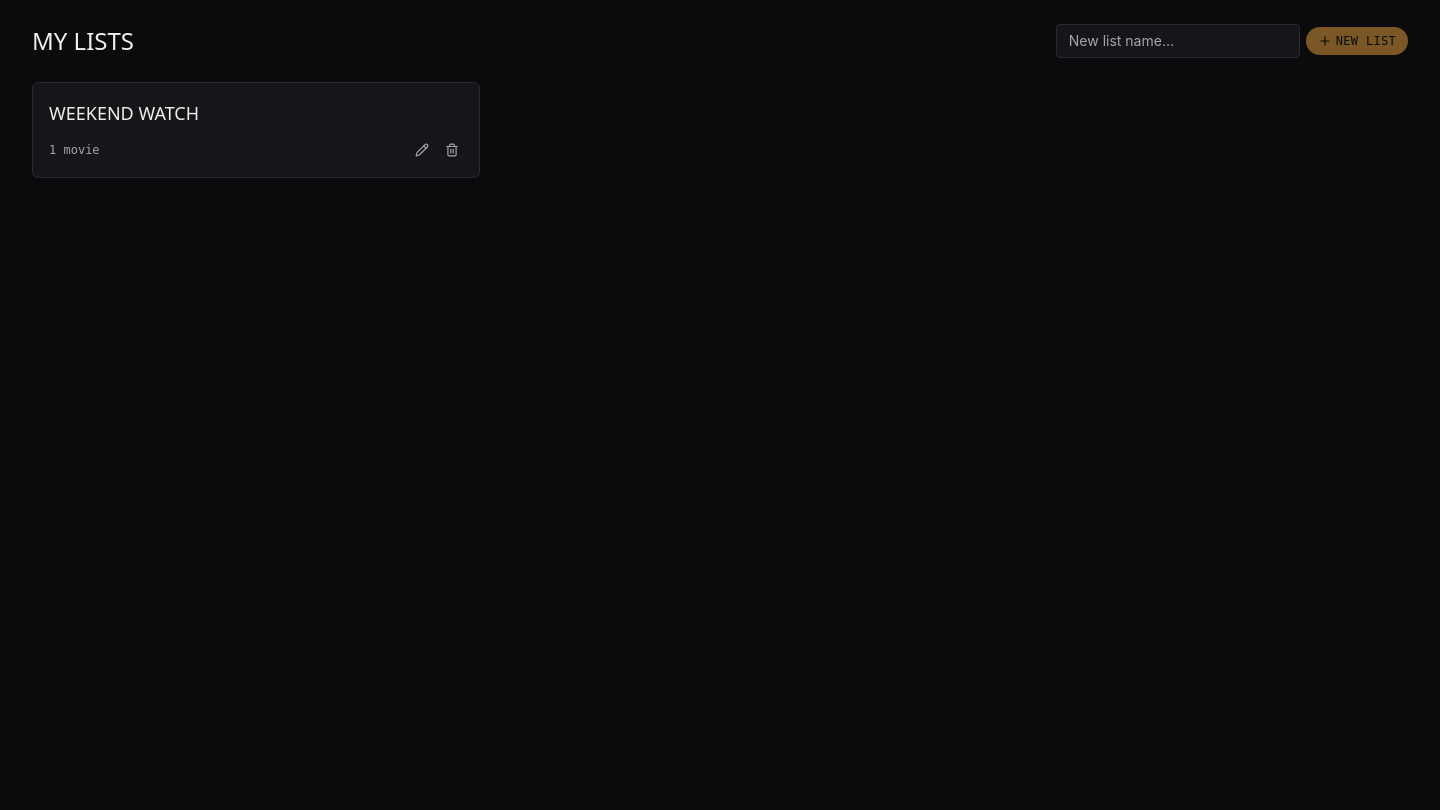
Test: ListsPage delete flow › cancelling the dialog does not delete the list
Click the button named "Delete Weekend Watch": (452, 150) [441, 139, 463, 161]
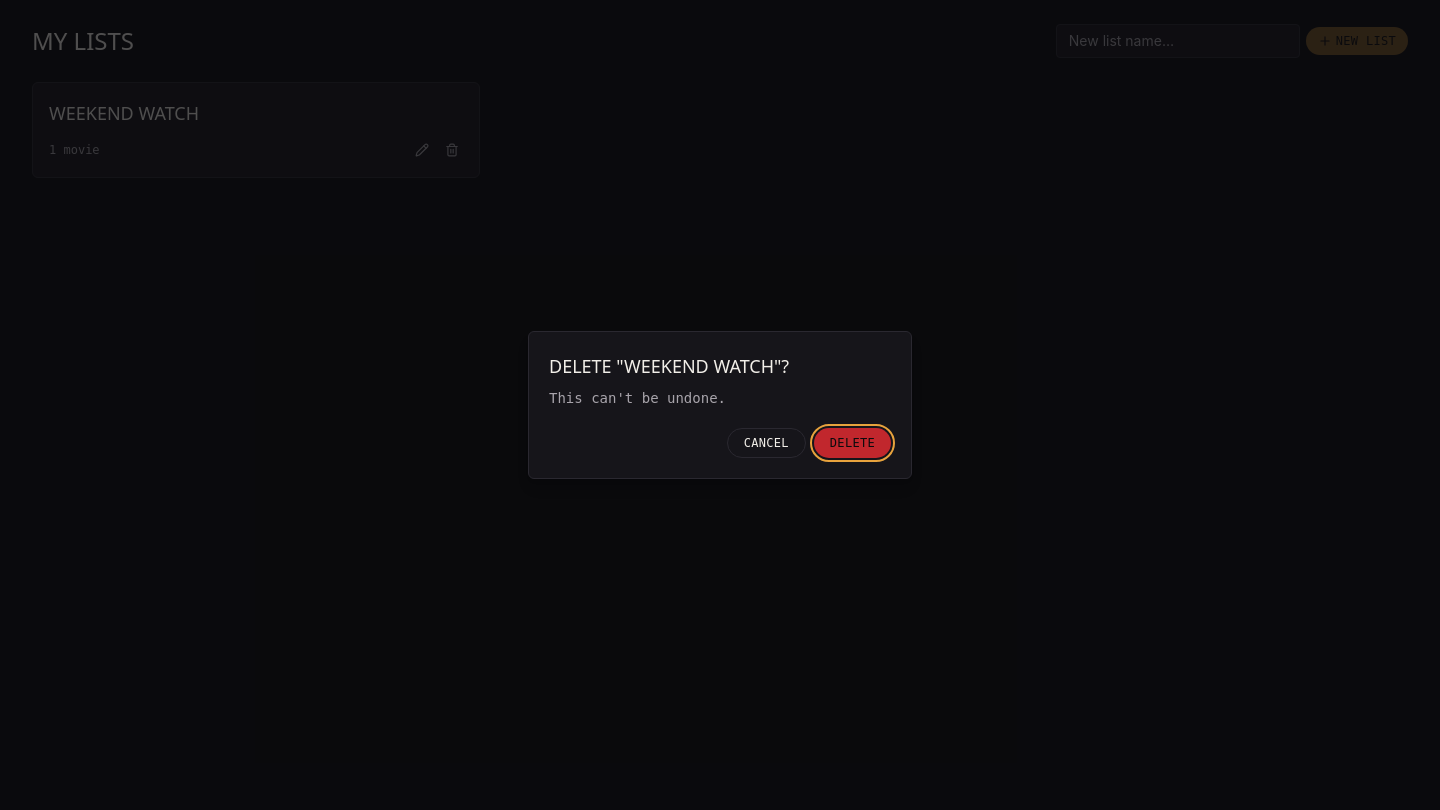
Click the button "Cancel": (766, 443) [727, 428, 806, 458]
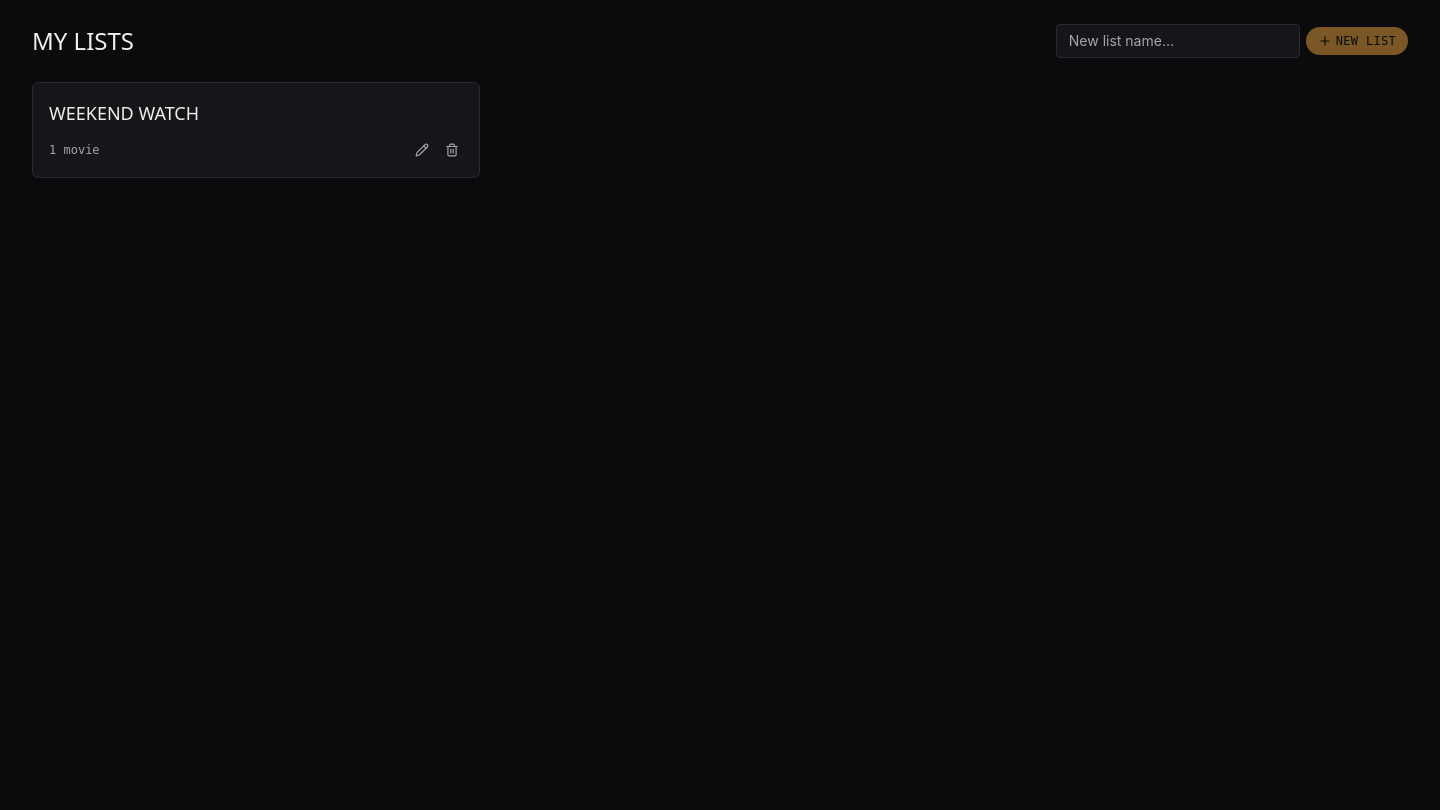
Check: the dialog is gone
